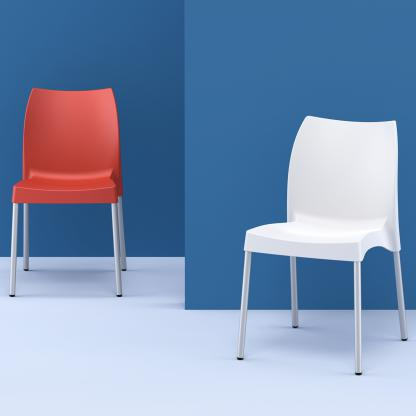chair: (229, 114, 415, 380), (7, 89, 129, 306)
